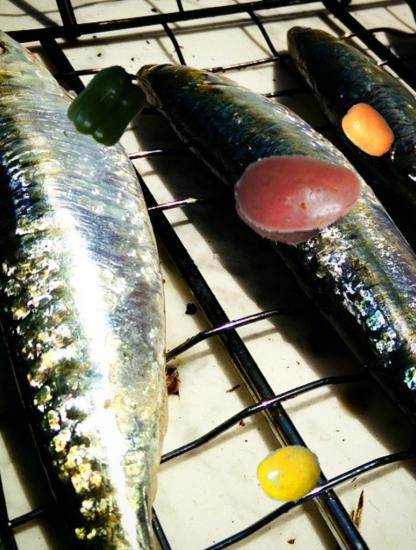Cocos: (234, 154, 332, 252)
Kumquats: (340, 102, 397, 159)
Maracuja: (256, 441, 322, 507)
Pepper: (69, 67, 148, 146)
Potato: (234, 129, 363, 258)
